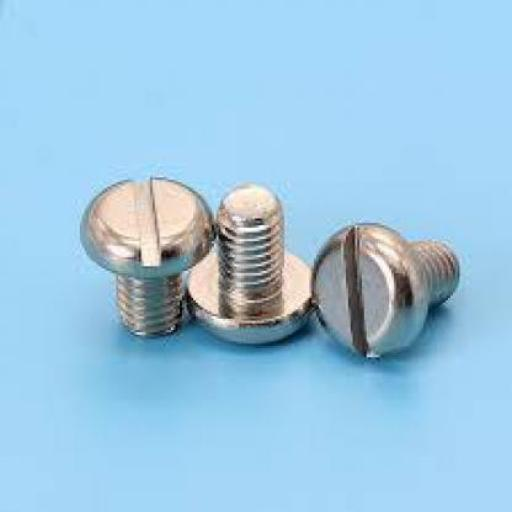Bolt: (81, 177, 216, 338), (184, 182, 315, 345), (311, 223, 461, 359)
